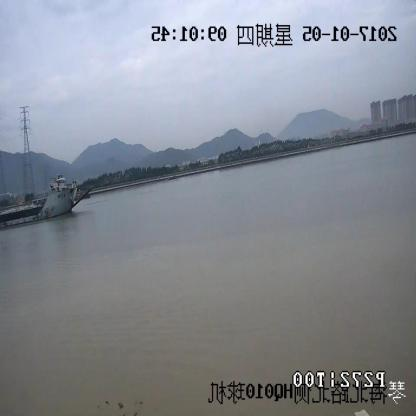Bulk Carrier: (1, 177, 86, 229)
